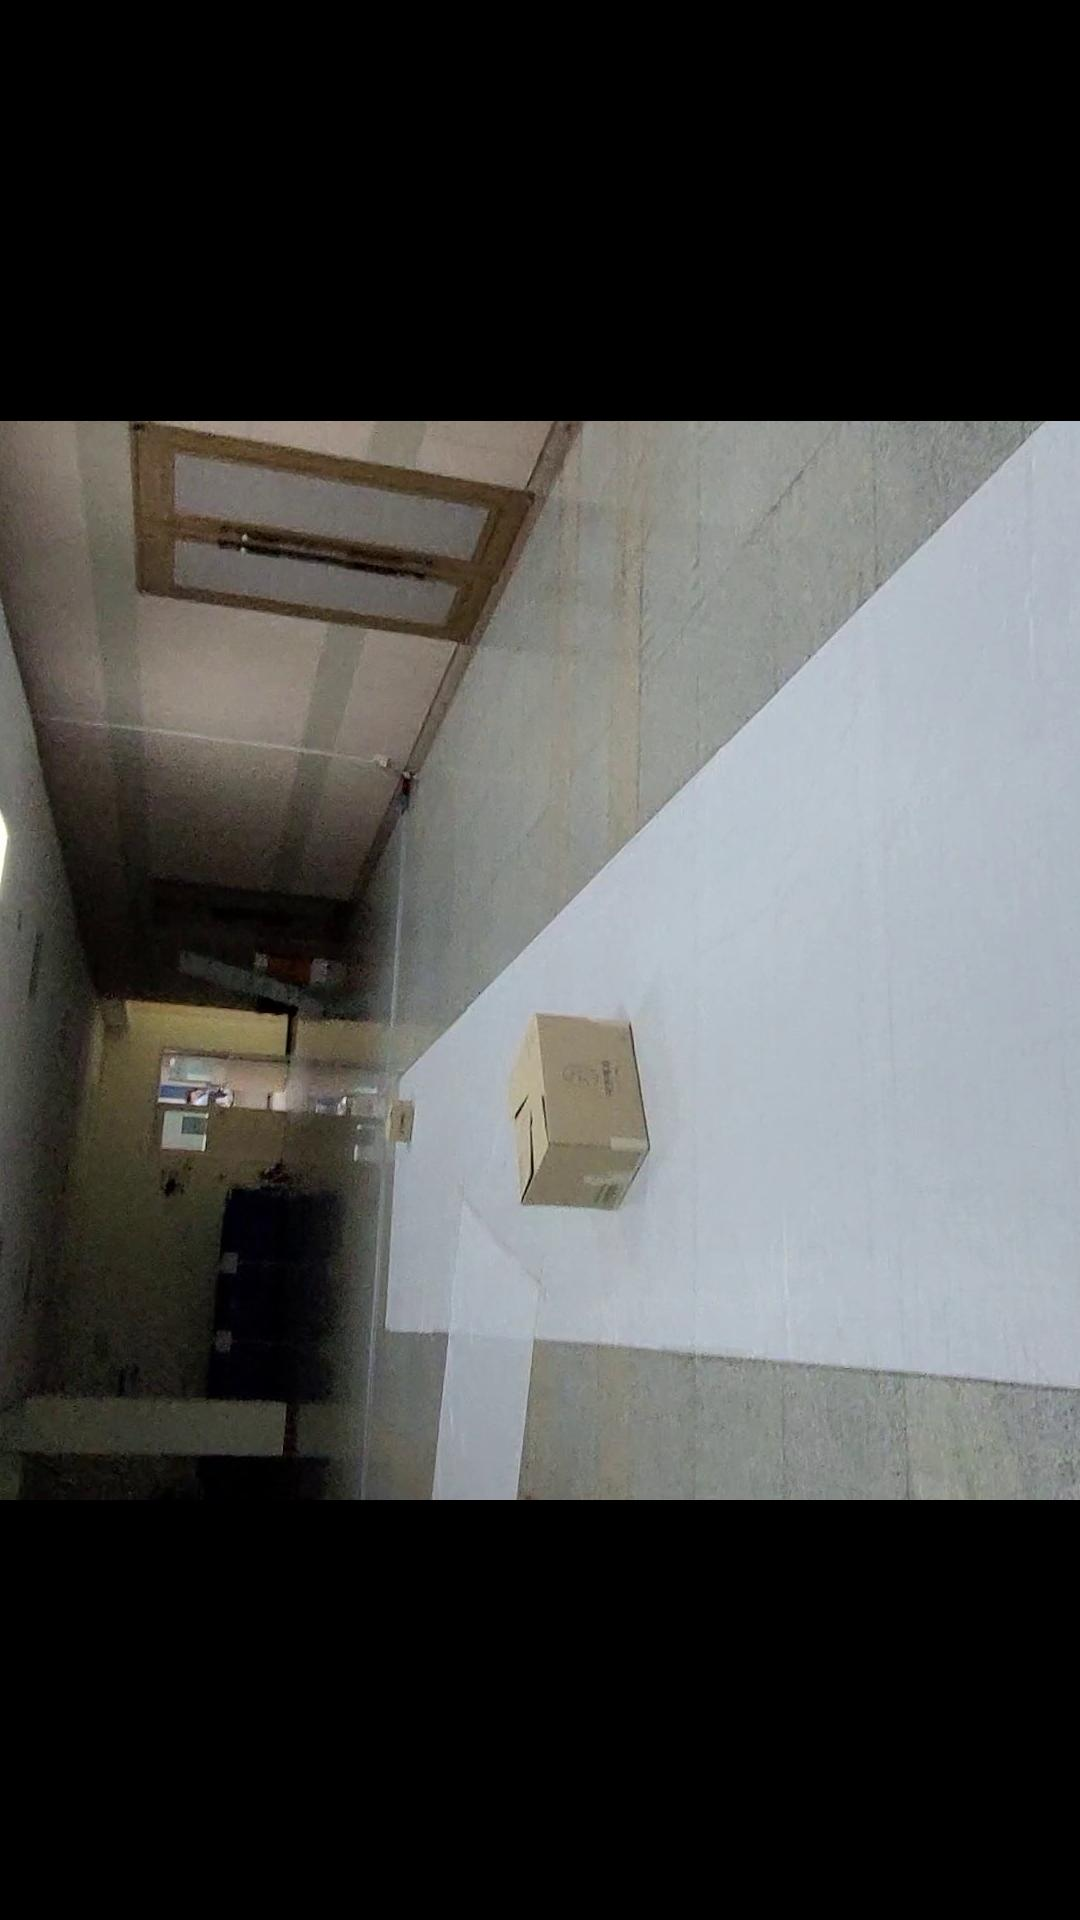Box: (463, 934, 708, 1242)
